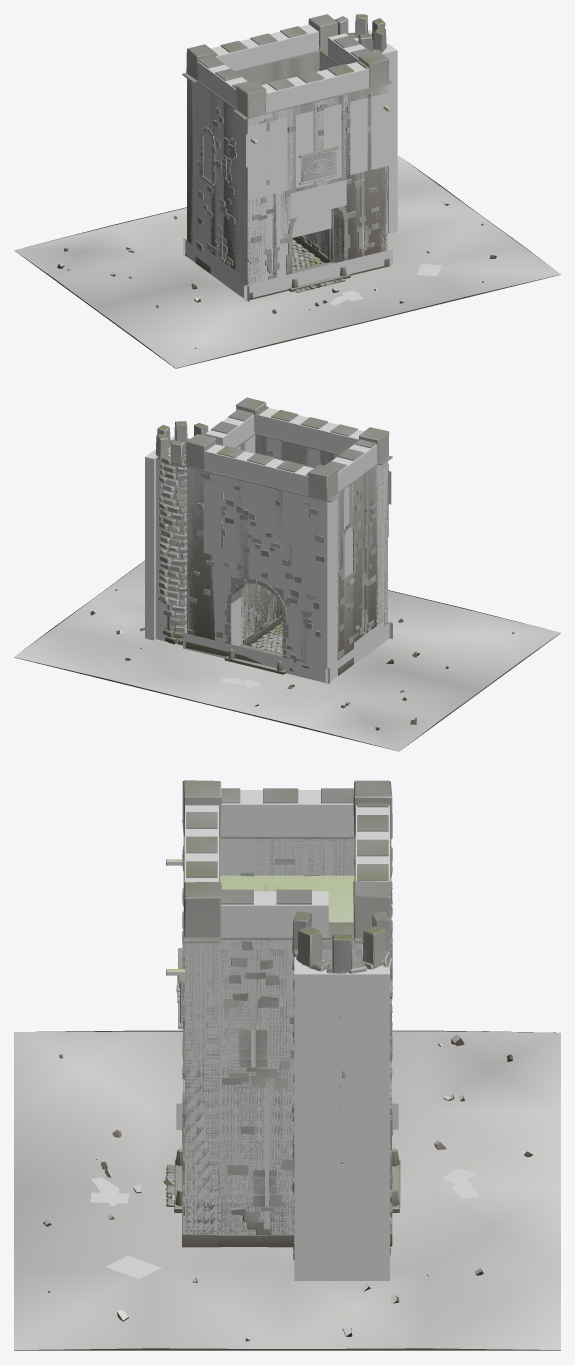
Rendered from bld_gatehouse_south_shared.glb.
The picture shows the model from 3 angles, top to bottom: view 1: azimuth 30°, elevation 25°; view 2: azimuth 150°, elevation 25°; view 3: azimuth 270°, elevation 25°; orthographic projection. The views are drawn at different scales.
Parts seen in each view (by area): view 1: ground_mud, decals_gate, wall_S, merlons, col_wall_S_W, col_wall_W, wall_S_stones, col_merlons_S, wall_N, col_merlons_N, wall_W, wall_W_stones (+10 smaller); view 2: ground_mud, col_wall_N_W, decals_gate, merlons, turret_wall, wall_W, col_wall_N_top, wall_N, wall_N_stones, col_wall_N_E, col_merlons_N, col_turret_N (+12 smaller); view 3: ground_mud, col_turret_E, col_wall_E, merlons, col_wall_S_E, wall_E, wall_E_stones, col_merlons_W, col_wall_W, wall_S, turret_wall, col_merlons_E (+9 smaller).
Part boxes in pixels (x1,y1,x2,y2): ground_mud: [14, 156, 560, 368]; decals_gate: [183, 92, 441, 305]; wall_S: [237, 85, 387, 284]; merlons: [182, 14, 392, 119]; col_wall_S_W: [237, 108, 291, 284]; col_wall_W: [197, 82, 237, 271]; wall_S_stones: [247, 91, 389, 300]; col_merlons_S: [261, 62, 369, 112]; wall_N: [187, 52, 319, 243]; col_merlons_N: [210, 24, 319, 70]; wall_W: [197, 86, 237, 271]; wall_W_stones: [195, 107, 236, 273]; ground_mud: [14, 561, 560, 751]; col_wall_N_W: [283, 491, 337, 667]; decals_gate: [183, 463, 392, 687]; merlons: [182, 397, 392, 502]; turret_wall: [155, 421, 208, 644]; wall_W: [337, 466, 377, 659]; col_wall_N_top: [231, 478, 283, 589]; wall_N: [187, 468, 314, 662]; wall_N_stones: [185, 472, 330, 681]; col_wall_N_E: [187, 467, 240, 646]; col_merlons_N: [205, 444, 313, 495]; col_turret_N: [150, 453, 186, 645]; ground_mud: [14, 1030, 560, 1350]; col_turret_E: [294, 967, 389, 1280]; col_wall_E: [219, 940, 355, 1234]; merlons: [182, 780, 392, 943]; col_wall_S_E: [185, 943, 218, 1233]; wall_E: [219, 940, 355, 1234]; wall_E_stones: [217, 941, 332, 1247]; col_merlons_W: [220, 790, 353, 835]; col_wall_W: [220, 839, 354, 875]; wall_S: [185, 943, 218, 1233]; turret_wall: [292, 911, 392, 1259]; col_merlons_E: [221, 891, 328, 937].
Bounding box in the file's own units: 22 × 11.46 × 16.
